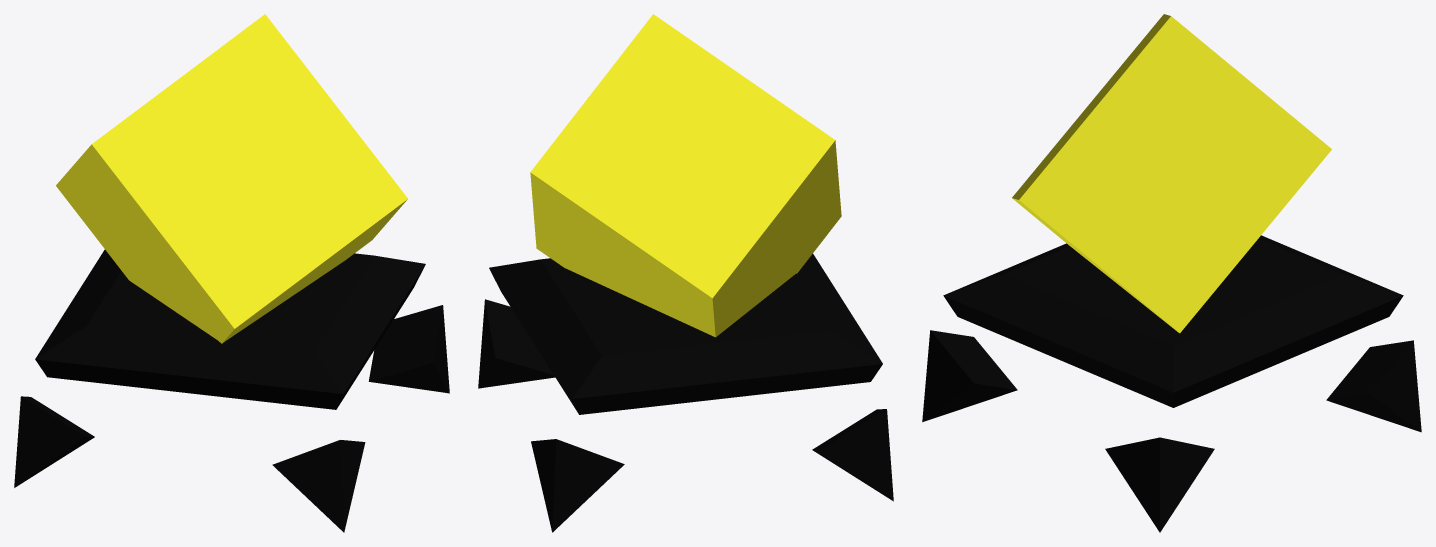
Rendered from LightningHead.FBX.
3 views of the same model, side by side, from view 1: azimuth 30°, elevation 25°; view 2: azimuth 150°, elevation 25°; view 3: azimuth 270°, elevation 25° (orthographic). The views are drawn at different scales.
Parts seen in each view (by area): view 1: LightningHead; view 2: LightningHead; view 3: LightningHead.
Boxes of the visible parts, x1=… form: LightningHead: x1=14, y1=14, x2=449, y2=532; LightningHead: x1=478, y1=14, x2=893, y2=532; LightningHead: x1=922, y1=14, x2=1421, y2=532.
Bounding box in the file's own units: 15.43 × 14.58 × 15.43.
